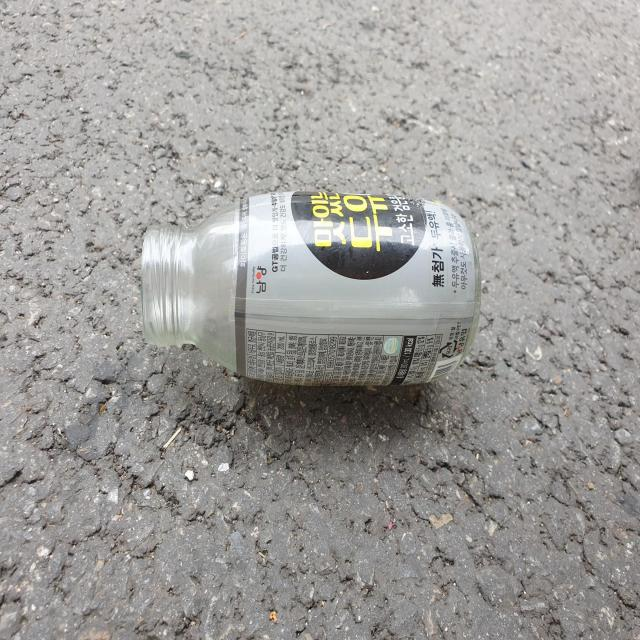glass: (141, 189, 482, 386)
